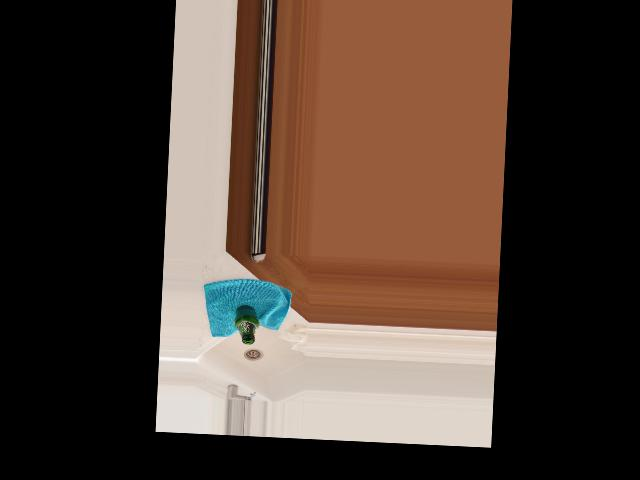beer: (234, 304, 260, 344)
